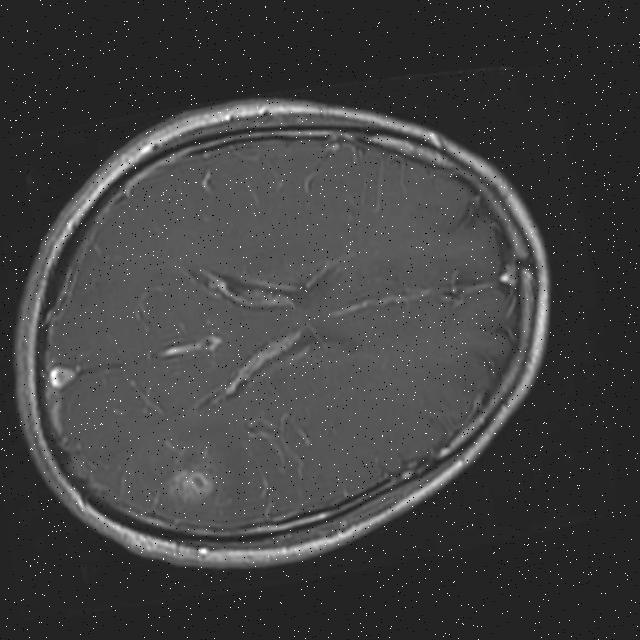Glioma: (158, 464, 220, 510)
